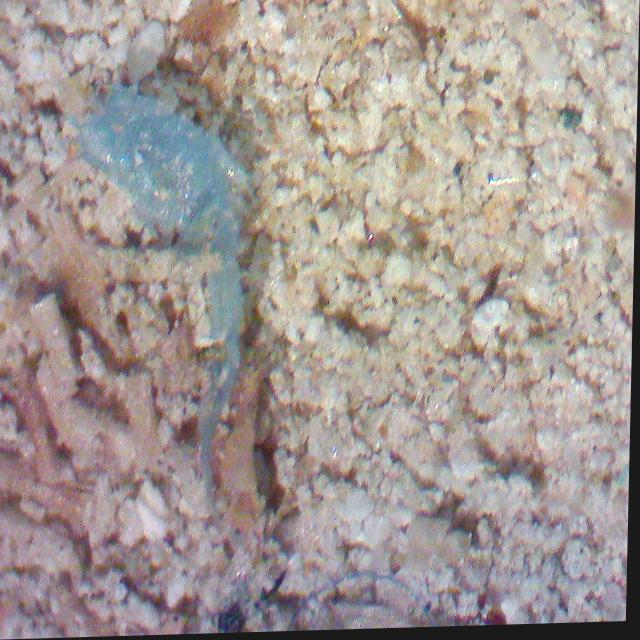microplastic: (80, 80, 253, 532)
